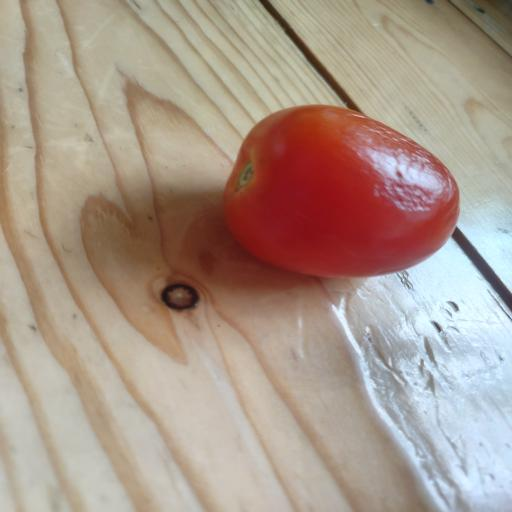spoiled: (224, 105, 459, 277)
